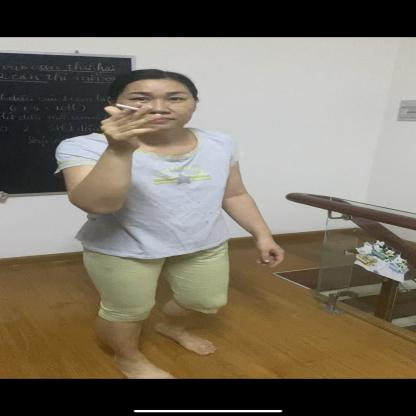cigarette: (111, 102, 141, 112)
person: (55, 62, 297, 368)
